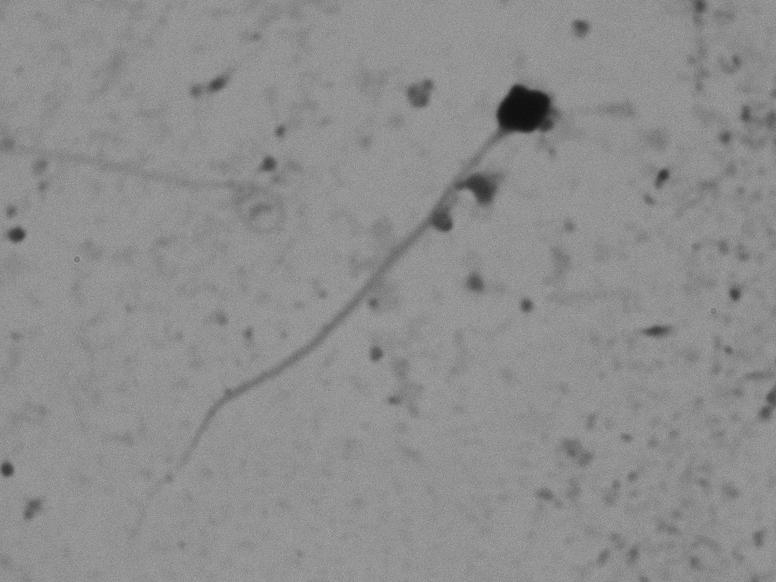Abnormal: (96, 61, 569, 554)
